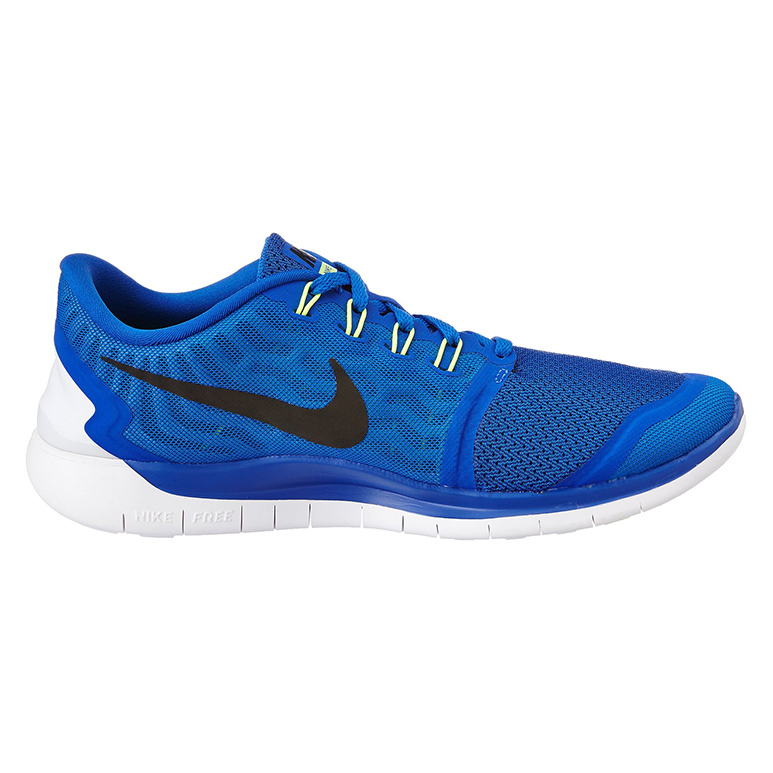Nike: (99, 349, 372, 453)
